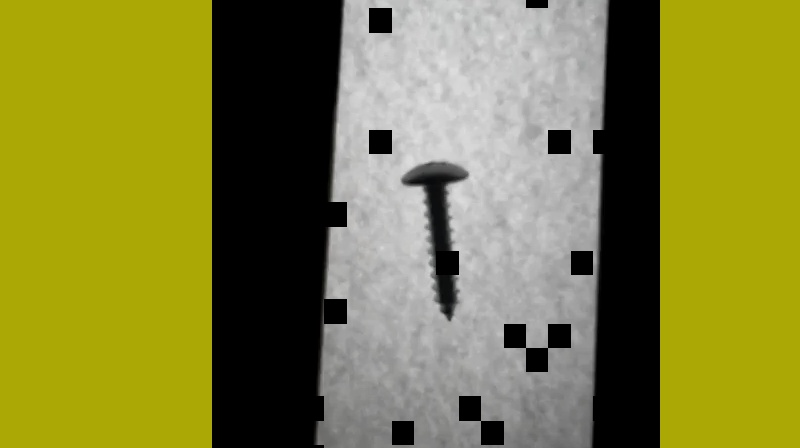S003: (398, 156, 476, 324)
